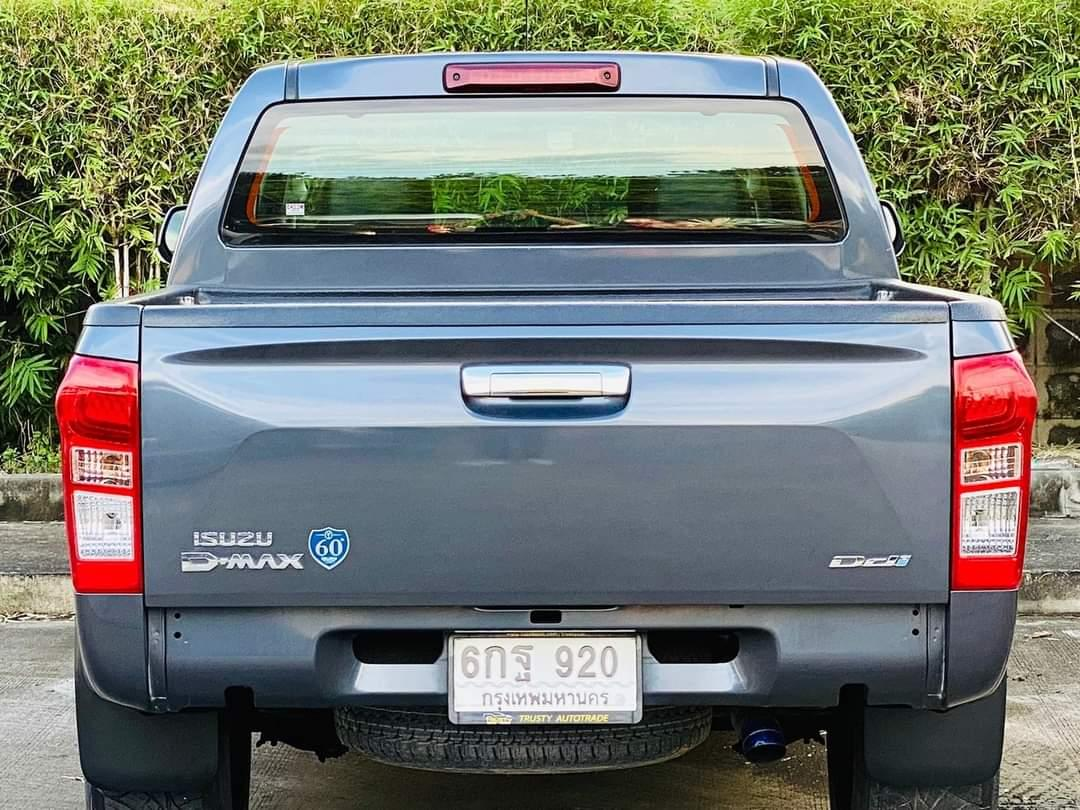license-plate: (448, 626, 646, 727)
